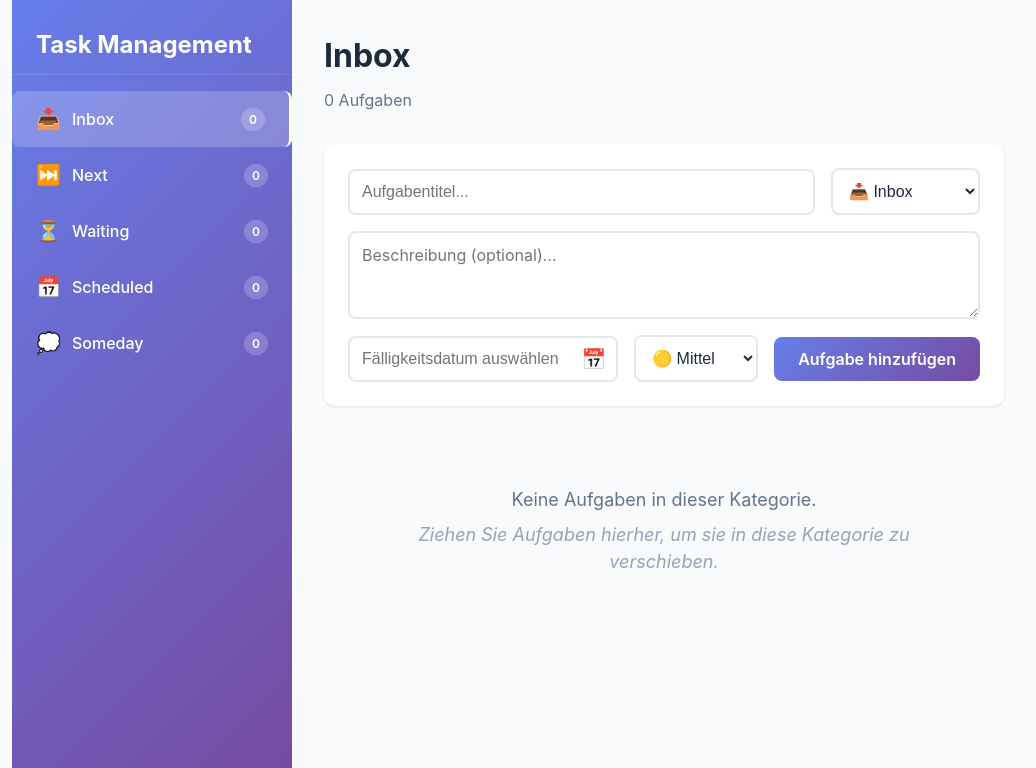
Test: App › Category Navigation › should switch between categories when clicking navigation items
Expected: the heading "Inbox" is shown, [324, 36, 411, 75]
Expected: the text "Inbox" is shown, [72, 109, 114, 129]
Note: Click on Next
Step 1. Click the button "⏭️ Next 0" → {"x": 90, "y": 175}, box [12, 147, 292, 203]
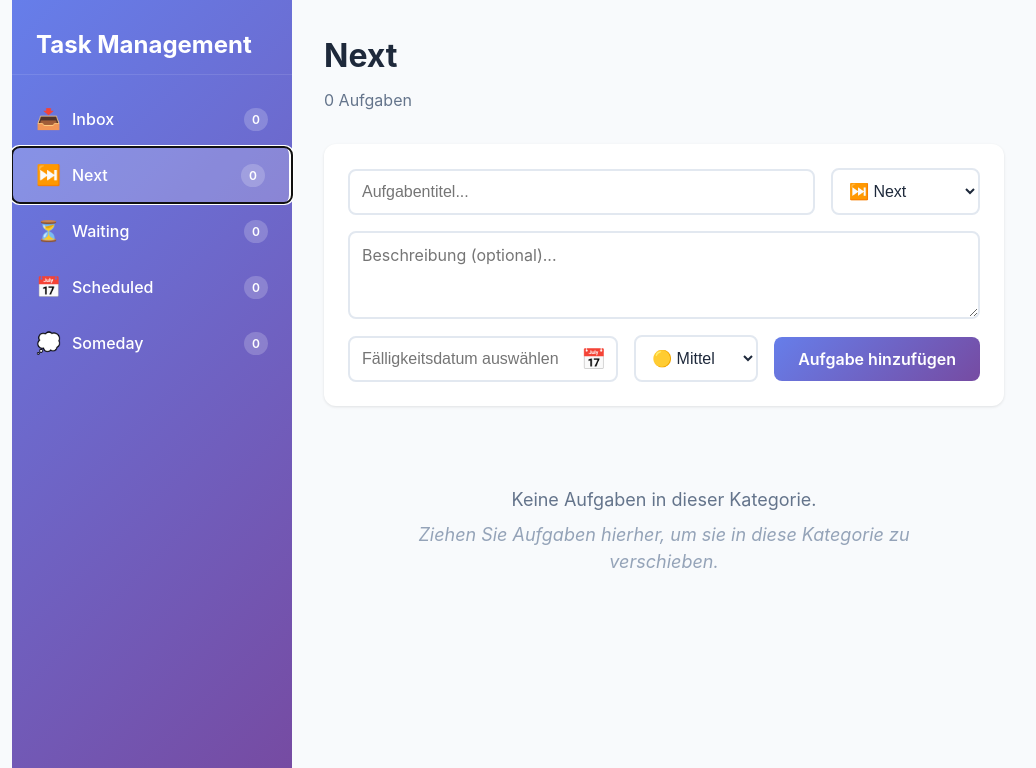
Result: the heading "Next" is shown at [324, 36, 398, 75]
Note: Click on Waiting
Step 2. Click the button "⏳ Waiting 0" → {"x": 101, "y": 231}, box [12, 203, 292, 259]
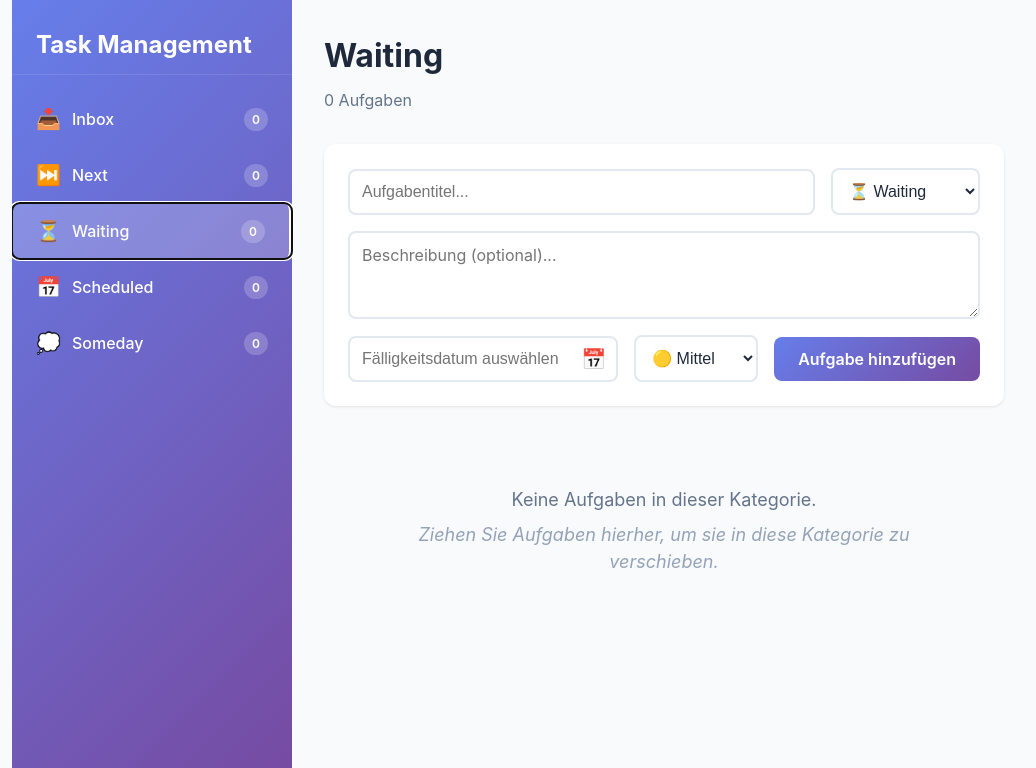
Result: the heading "Waiting" is shown at [324, 36, 443, 75]
